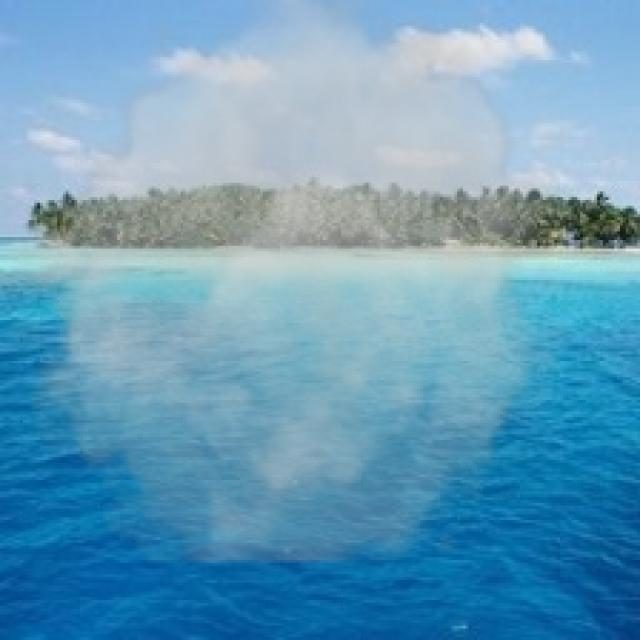smoke: (12, 0, 574, 563)
